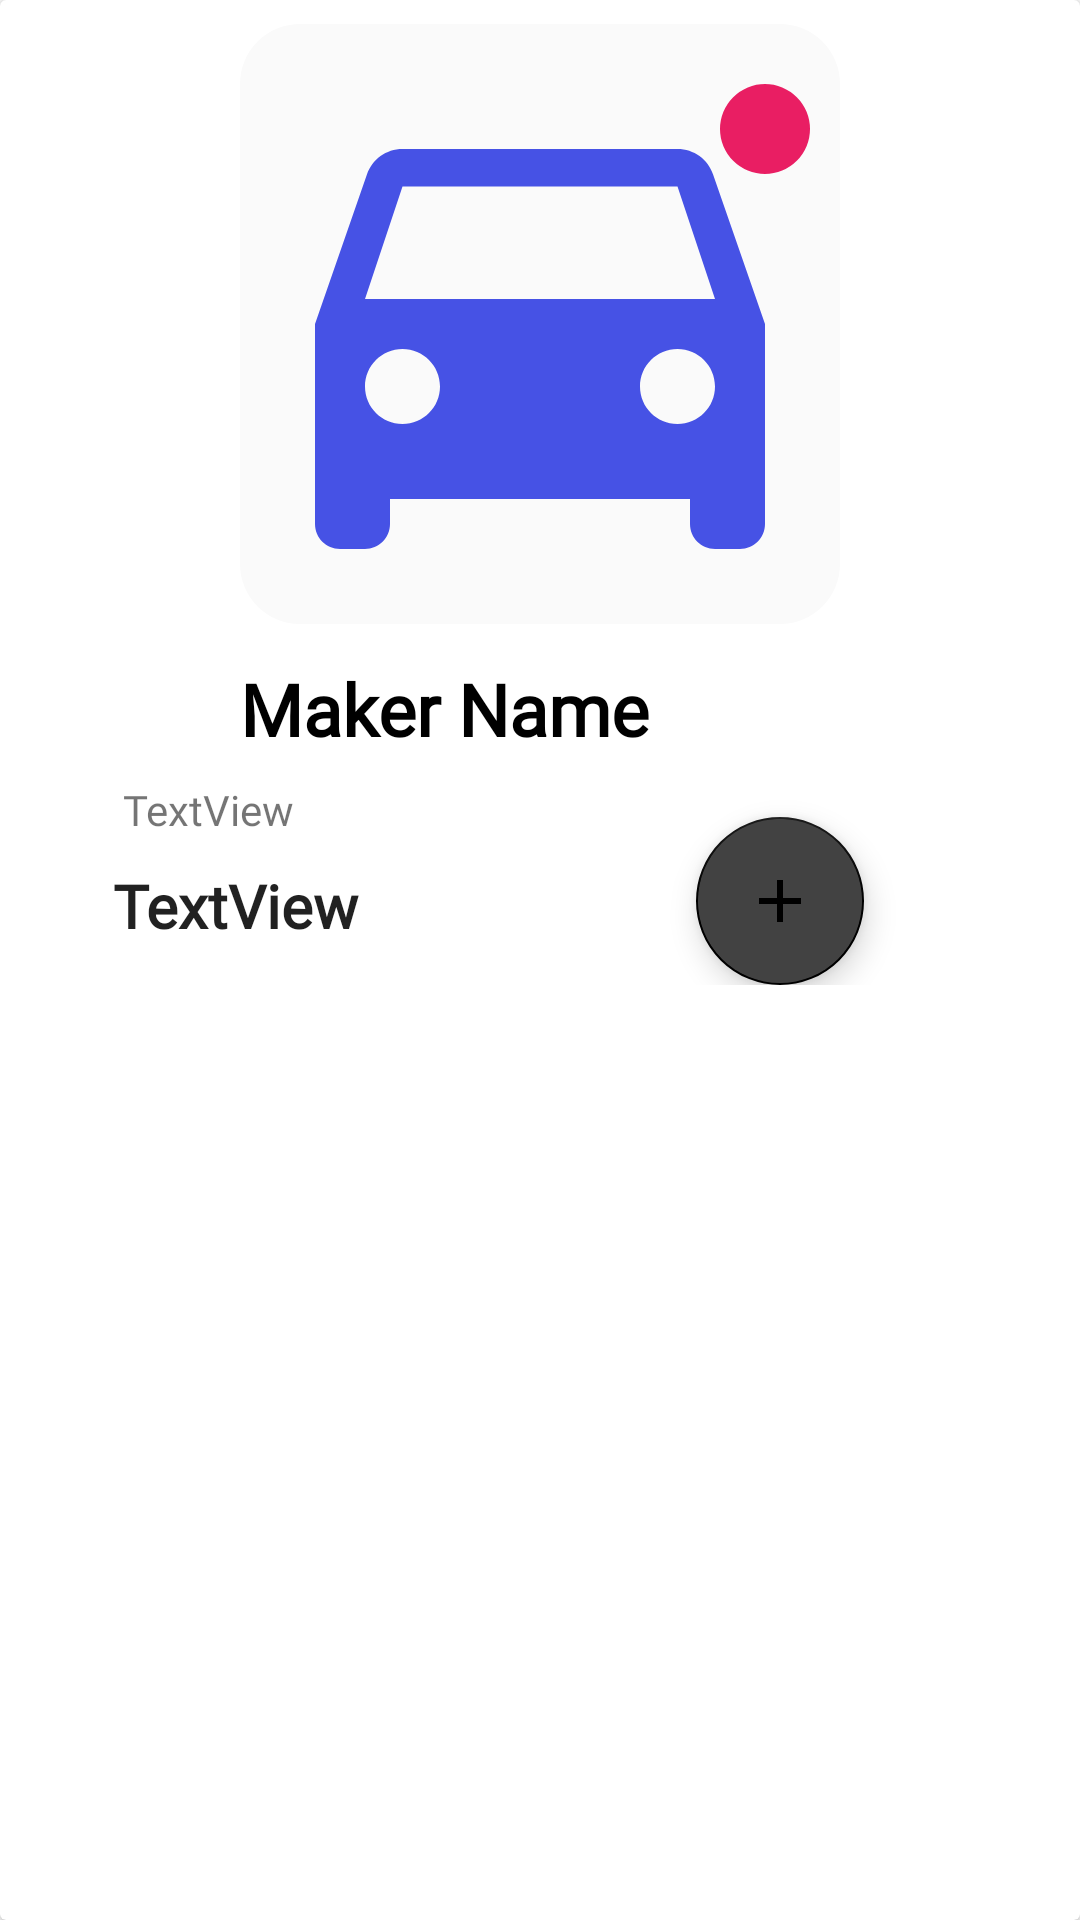

Where icons sit on this 1080px x 1920px app screen, as (x1, y1, x2, y2):
add: (696, 817, 864, 985)
